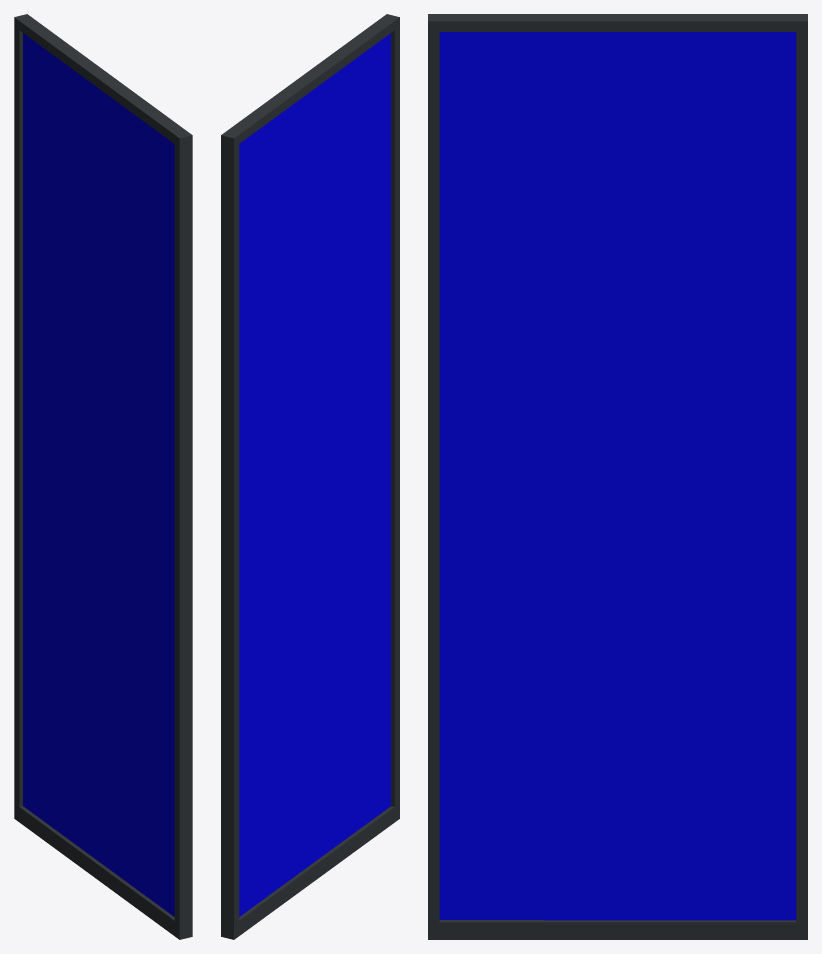
File: MainDoor1bTransformed3.fbx
3 views of the same model, side by side, from view 1: azimuth 30°, elevation 25°; view 2: azimuth 150°, elevation 25°; view 3: azimuth 270°, elevation 25° (orthographic). The views are drawn at different scales.
Visible parts, largest first — view 1: Glazed_Internal Double Doors:DT-10:11545992 door; view 2: Glazed_Internal Double Doors:DT-10:11545992 door; view 3: Glazed_Internal Double Doors:DT-10:11545992 door.
Part boxes in pixels (box(x1,y1,x2,y2)): Glazed_Internal Double Doors:DT-10:11545992 door: box(14, 14, 192, 939); Glazed_Internal Double Doors:DT-10:11545992 door: box(221, 14, 399, 939); Glazed_Internal Double Doors:DT-10:11545992 door: box(428, 14, 807, 939).
Size of the model in its own units: 0.0451 by 2.6 by 0.9742.
